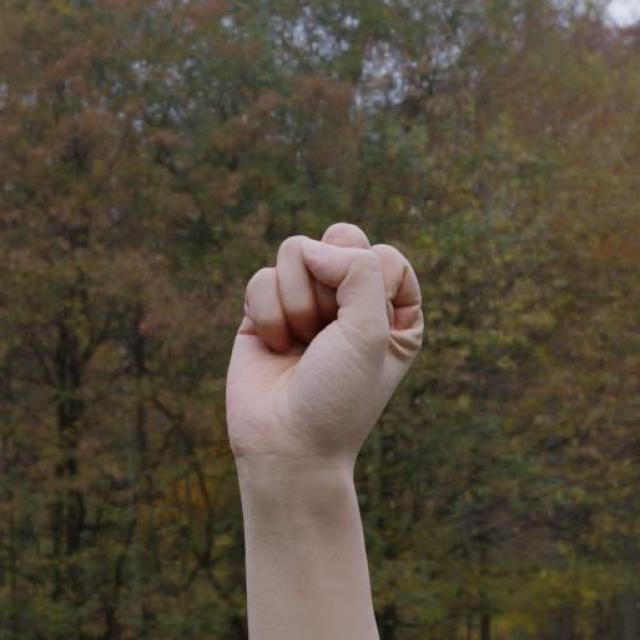S: (219, 218, 431, 468)
